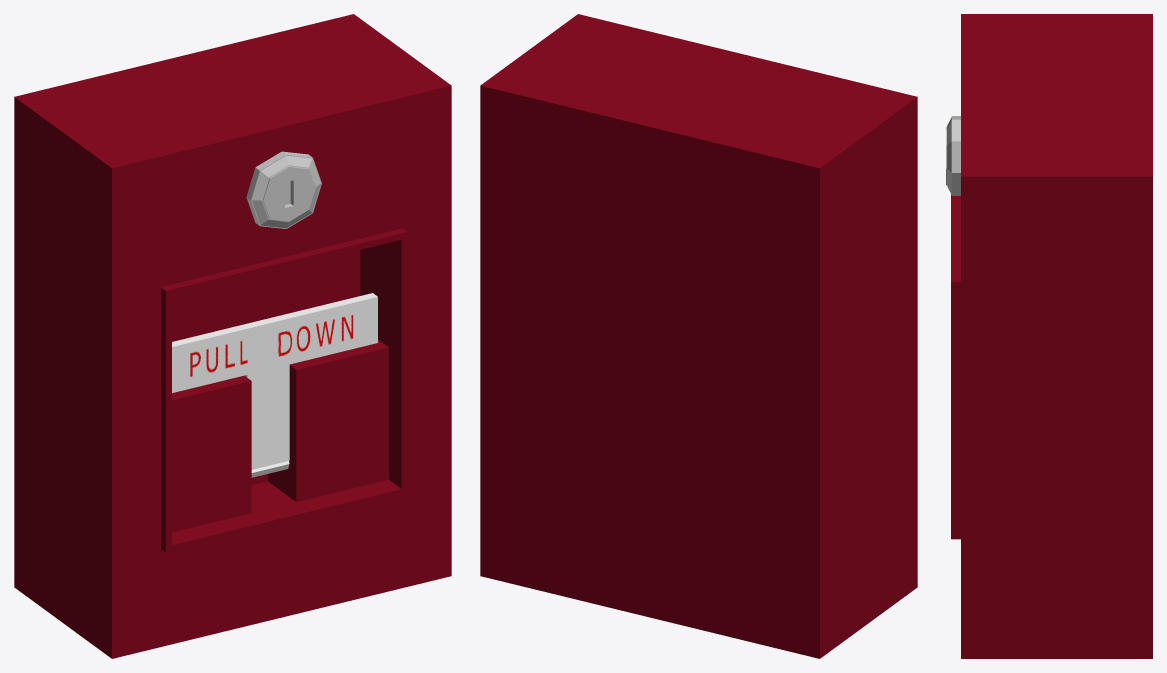
Rendered from firealarm.fbx.
3 renders of one model, left to right at view 1: azimuth 30°, elevation 25°; view 2: azimuth 150°, elevation 25°; view 3: azimuth 270°, elevation 25°, orthographic.
Parts seen in each view (by area): view 1: fire alarm; view 2: fire alarm; view 3: fire alarm.
Boxes of the visible parts, <box> form: fire alarm: <box>14,14,451,658</box>; fire alarm: <box>480,14,917,658</box>; fire alarm: <box>946,14,1152,658</box>.
Bounding box in the file's own units: 155 × 214 × 83.27.
